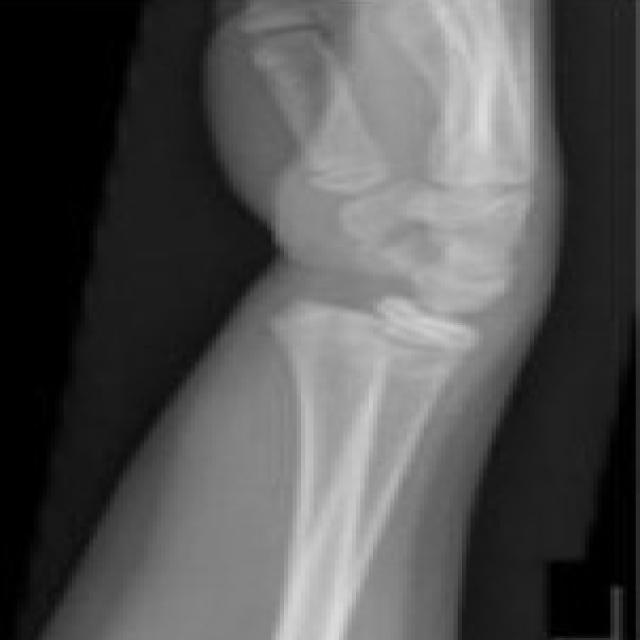Greenstick: (245, 148, 570, 362)
